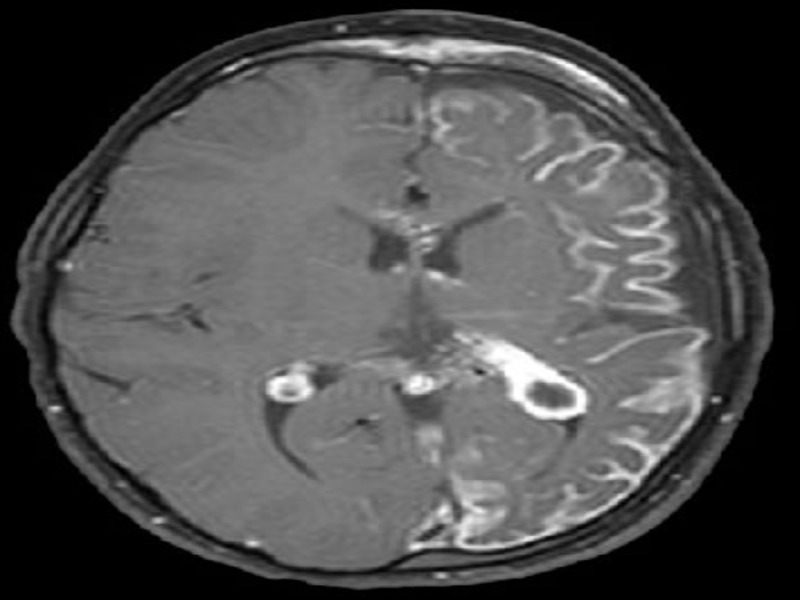tumor: (470, 325, 596, 434)
